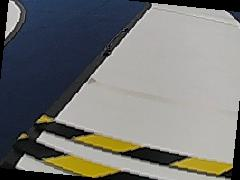bump: (13, 120, 230, 179)
